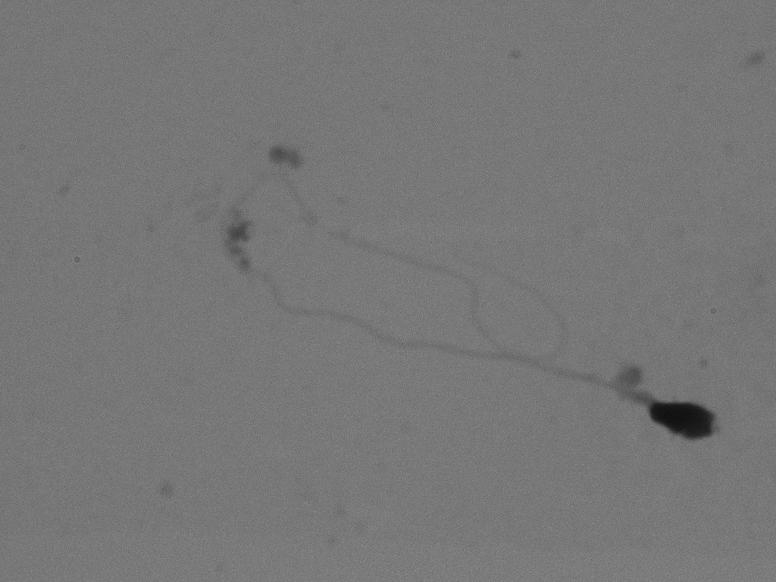Abnormal: (202, 154, 735, 456)
